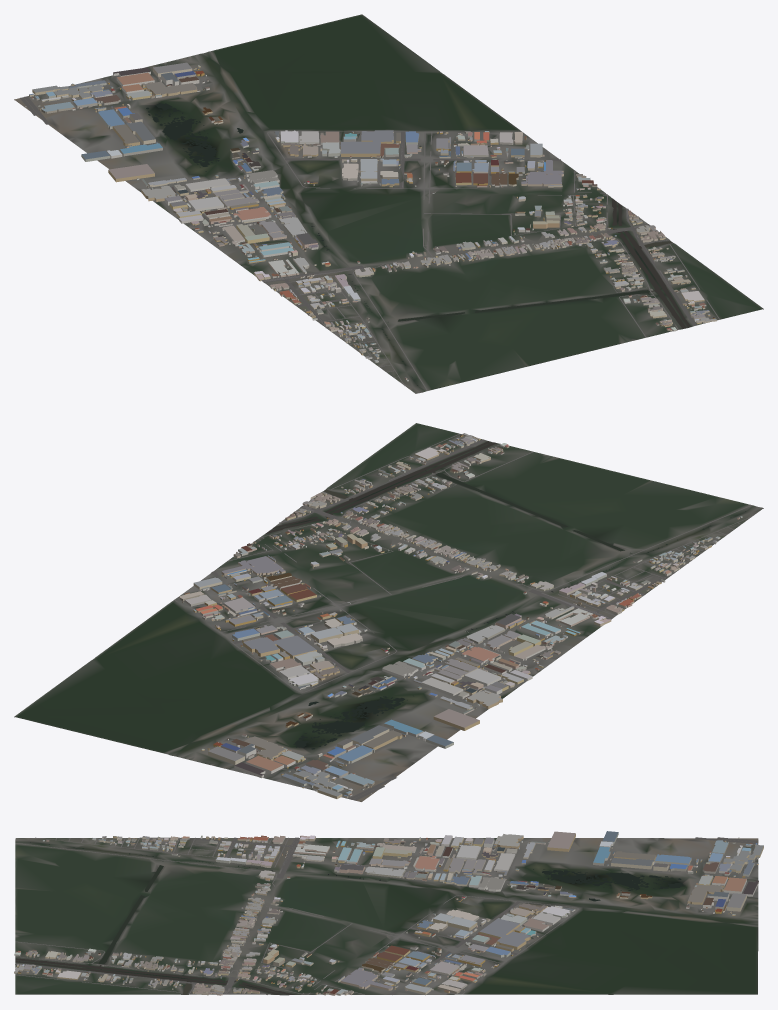
3 renders of one model, top to bottom at view 1: azimuth 30°, elevation 25°; view 2: azimuth 150°, elevation 25°; view 3: azimuth 270°, elevation 25°, orthographic. The views are drawn at different scales.
Parts seen in each view (by area): view 1: ground, buildings, roads, water; view 2: ground, buildings, roads, water; view 3: ground, buildings, roads, water.
Part boxes in pixels (box(x1,y1,x2,y2)): ground: box(14, 14, 763, 393); buildings: box(24, 62, 716, 381); roads: box(20, 96, 719, 390); water: box(146, 102, 690, 385); ground: box(14, 423, 763, 801); buildings: box(179, 433, 742, 798); roads: box(174, 433, 753, 800); water: box(266, 441, 745, 749); ground: box(15, 837, 758, 995); buildings: box(14, 831, 763, 995); roads: box(15, 837, 758, 994); water: box(15, 842, 685, 994).
Bounding box in the file's own units: 1449 × 23.13 × 2828.
